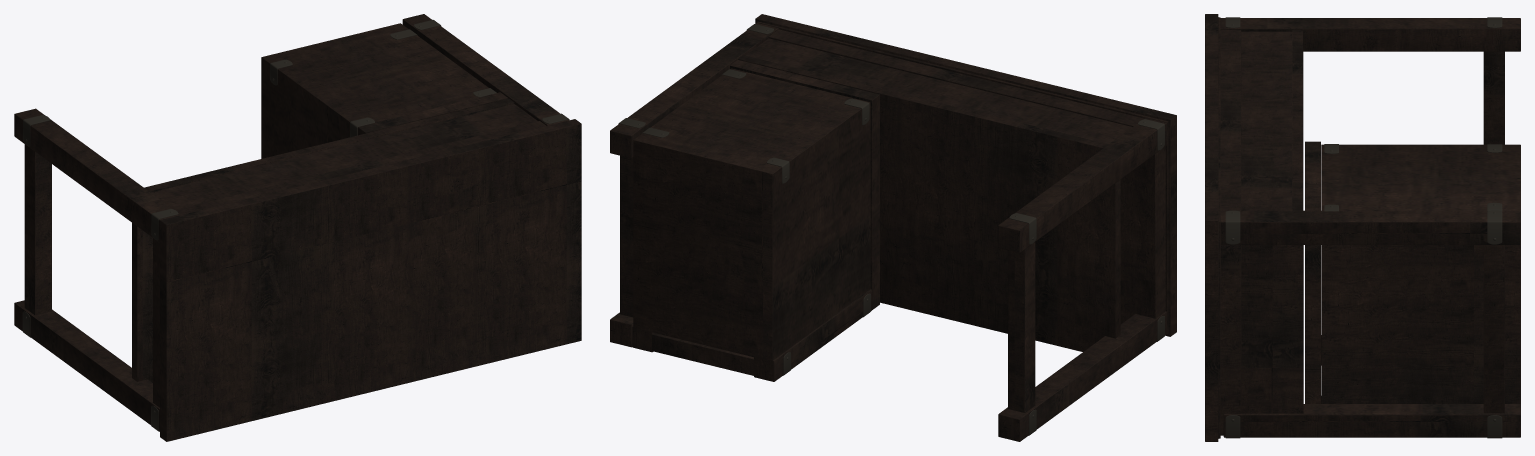
Rendered from Ayer Writing Desk.obj.
The picture shows the model from 3 angles, left to right: view 1: azimuth 30°, elevation 25°; view 2: azimuth 150°, elevation 25°; view 3: azimuth 270°, elevation 25°; orthographic projection. The views are drawn at different scales.
Visible parts, largest first — view 1: Box01, Object05, Box16, Box05, Object02, Box06, Box24, Object01, Box04, Object03; view 2: Object05, Object02, Object01, Box16, Box01, Box05, Box06, Box24, Box04, Object03, Box09, Box23 (+2 smaller); view 3: Object05, Box07, Box16, Box04, Box03, Box05, Object01, Box01, Box23, Object03, Object02, Box24 (+4 smaller).
Boxes of the visible parts, x1=… form: Box01: x1=160, y1=119, x2=581, y2=441; Object05: x1=261, y1=23, x2=488, y2=158; Box16: x1=151, y1=104, x2=537, y2=209; Box05: x1=14, y1=108, x2=180, y2=242; Object02: x1=132, y1=98, x2=514, y2=382; Box06: x1=14, y1=300, x2=159, y2=431; Box24: x1=24, y1=144, x2=51, y2=315; Object01: x1=153, y1=121, x2=546, y2=407; Box04: x1=402, y1=14, x2=568, y2=125; Object03: x1=358, y1=92, x2=508, y2=135; Object05: x1=633, y1=68, x2=870, y2=360; Object02: x1=738, y1=55, x2=1120, y2=351; Object01: x1=768, y1=29, x2=1165, y2=324; Box16: x1=745, y1=38, x2=1131, y2=144; Box01: x1=755, y1=14, x2=1176, y2=336; Box05: x1=998, y1=117, x2=1166, y2=252; Box06: x1=998, y1=311, x2=1166, y2=441; Box24: x1=1008, y1=242, x2=1035, y2=412; Box04: x1=610, y1=23, x2=778, y2=158; Object03: x1=730, y1=60, x2=879, y2=309; Box09: x1=632, y1=289, x2=871, y2=381; Box23: x1=620, y1=155, x2=633, y2=317; Object05: x1=1321, y1=144, x2=1520, y2=403; Box07: x1=1241, y1=245, x2=1303, y2=413; Box16: x1=1241, y1=31, x2=1292, y2=211; Box04: x1=1220, y1=211, x2=1520, y2=244; Box03: x1=1223, y1=404, x2=1520, y2=437; Box05: x1=1220, y1=18, x2=1520, y2=51; Object01: x1=1220, y1=30, x2=1241, y2=435; Box01: x1=1205, y1=14, x2=1220, y2=441; Box23: x1=1483, y1=245, x2=1504, y2=413; Object03: x1=1305, y1=141, x2=1320, y2=403; Object02: x1=1292, y1=30, x2=1303, y2=211; Box24: x1=1483, y1=51, x2=1504, y2=144.
Size of the model in its own units: 122 by 63.17 by 78.76.
